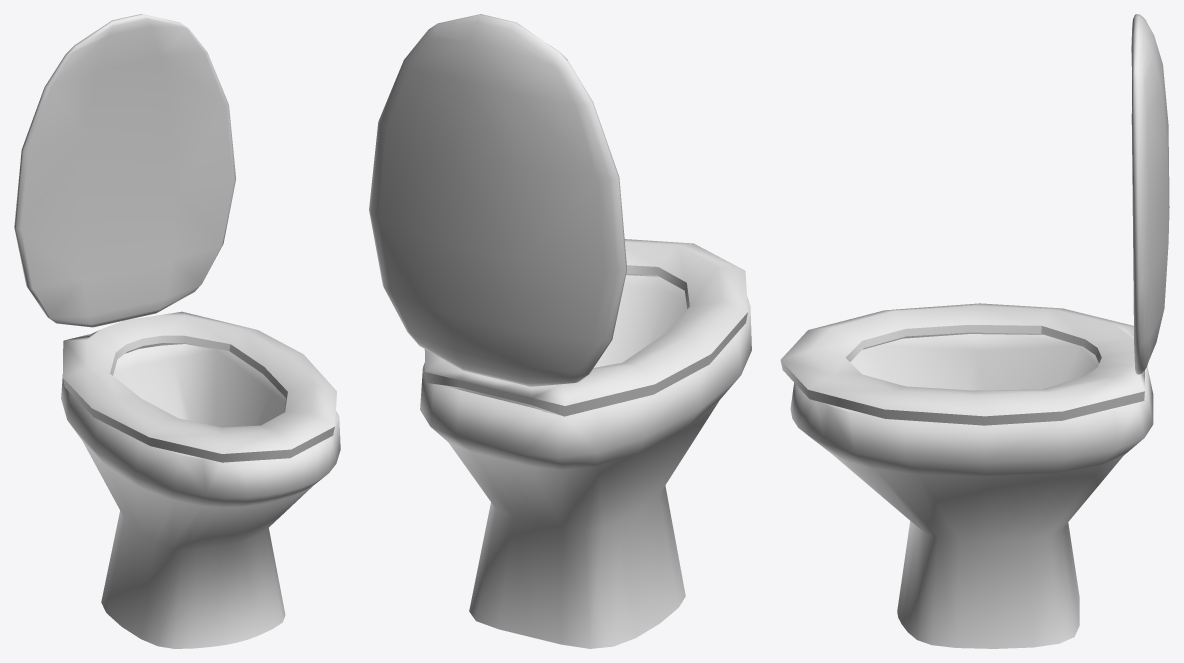
File: Water.fbx
3 renders of one model, left to right at view 1: azimuth 30°, elevation 25°; view 2: azimuth 150°, elevation 25°; view 3: azimuth 270°, elevation 25°, orthographic. The views are drawn at different scales.
Parts seen in each view (by area): view 1: Water; view 2: Water; view 3: Water.
Part boxes in pixels (bbox=[...]): Water: bbox=[14, 14, 340, 648]; Water: bbox=[369, 14, 751, 648]; Water: bbox=[780, 14, 1169, 648].
Size of the model in its own units: 57.88 by 137 by 82.48.
